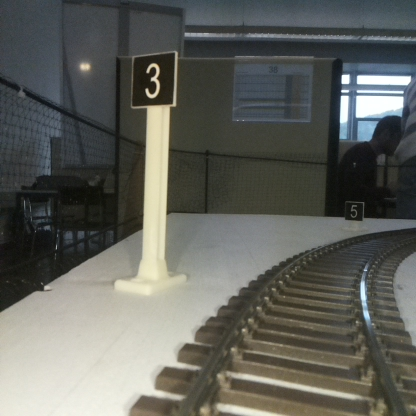black-info-3: (132, 53, 175, 291)
black-stop-5: (346, 202, 363, 229)
